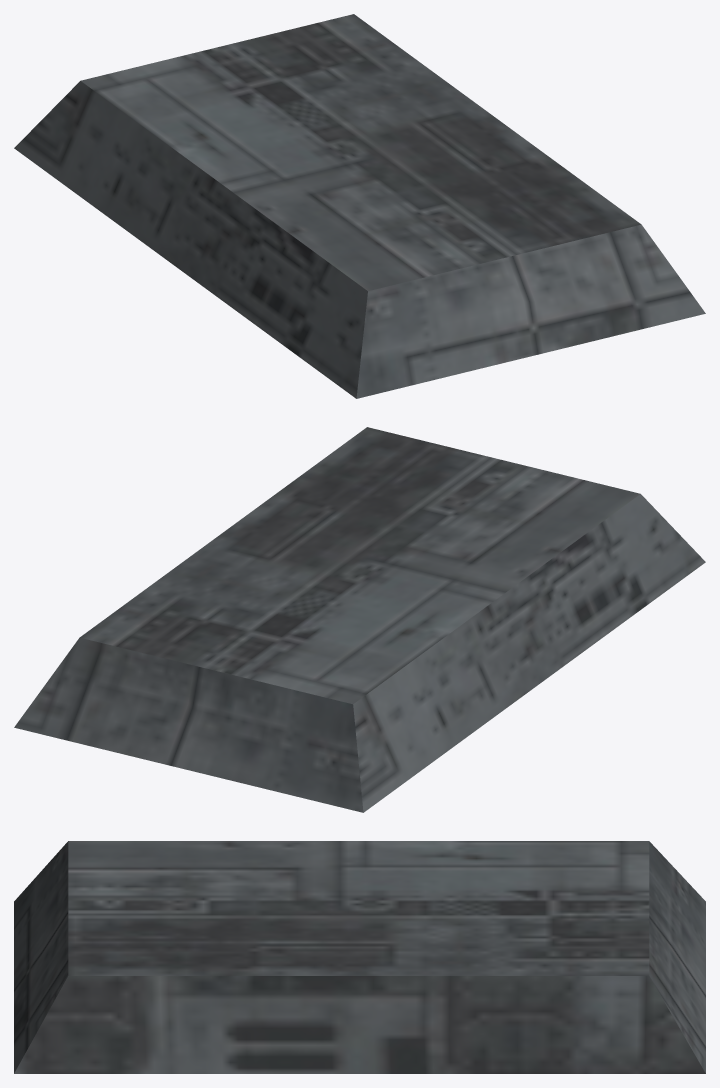
Rendered from PecaElevada_1.fbx.
3 renders of one model, top to bottom at view 1: azimuth 30°, elevation 25°; view 2: azimuth 150°, elevation 25°; view 3: azimuth 270°, elevation 25°, orthographic.
Visible parts, largest first — view 1: pasted__polySurface67; view 2: pasted__polySurface67; view 3: pasted__polySurface67.
Boxes of the visible parts, box(x1,y1,x2,y2) form: pasted__polySurface67: box(14, 14, 705, 398); pasted__polySurface67: box(14, 427, 705, 812); pasted__polySurface67: box(14, 841, 705, 1073).
Size of the model in its own units: 7.69 by 1.66 by 13.06.
